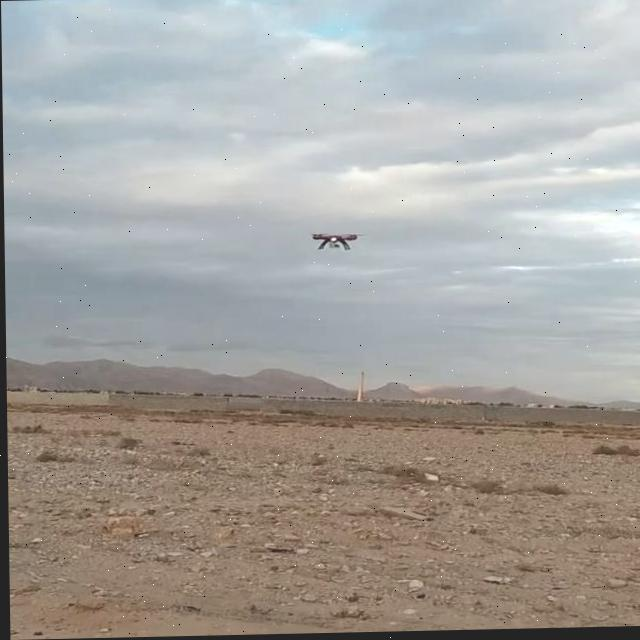drone: (300, 227, 366, 256)
